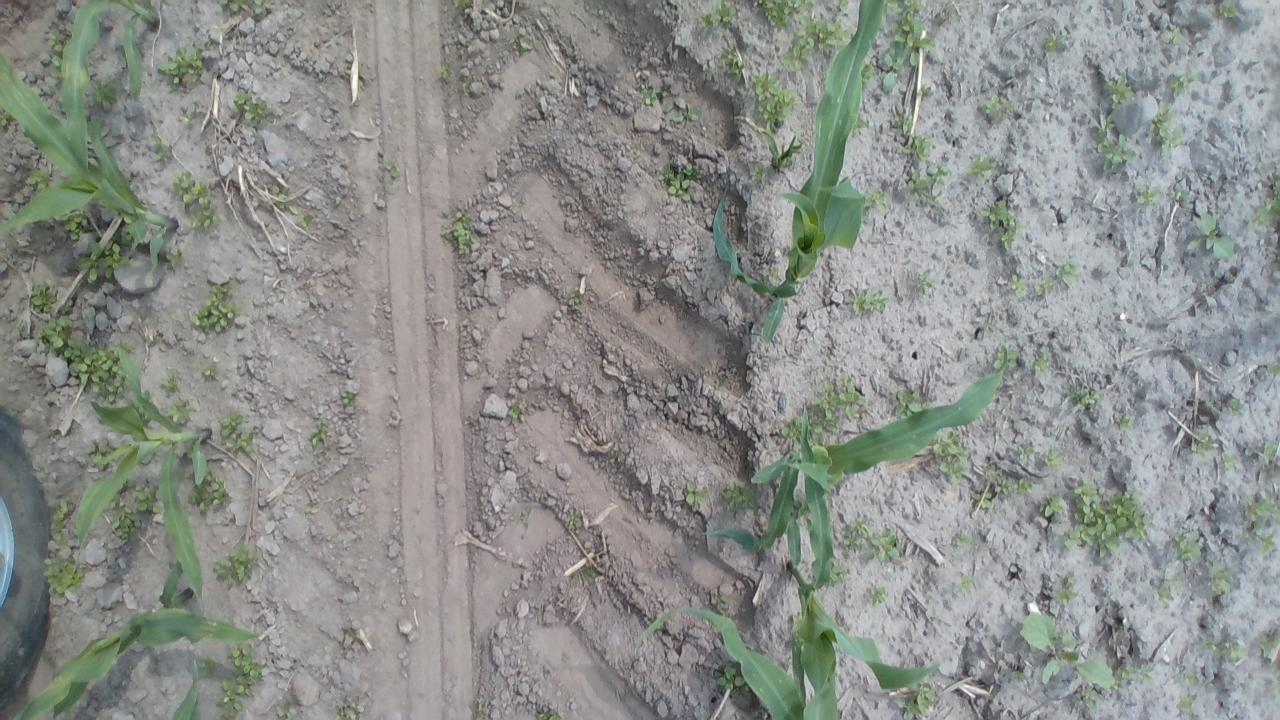Maize: (698, 348, 1012, 552), (714, 0, 886, 347), (763, 407, 945, 720), (0, 32, 185, 273), (11, 560, 268, 720), (70, 334, 214, 618), (644, 603, 811, 720), (74, 0, 167, 100), (166, 656, 206, 720)
Weeds: (1018, 612, 1118, 693), (1062, 480, 1151, 558), (781, 0, 852, 71), (60, 344, 134, 402), (884, 0, 932, 75), (218, 643, 262, 720), (172, 170, 218, 231), (811, 378, 862, 432), (1094, 114, 1138, 176), (75, 236, 131, 284), (752, 71, 801, 122), (192, 282, 239, 334), (1188, 212, 1236, 256), (1244, 496, 1280, 554), (1248, 166, 1280, 230), (934, 432, 972, 481), (981, 198, 1019, 247), (214, 545, 258, 586), (162, 47, 206, 88), (42, 557, 86, 597), (1150, 104, 1183, 156), (658, 162, 702, 200), (220, 412, 256, 456), (906, 164, 950, 200), (758, 0, 812, 29), (188, 475, 229, 513), (983, 467, 1032, 496), (1002, 272, 1056, 298), (51, 494, 78, 543), (900, 684, 936, 719), (720, 480, 758, 512), (846, 288, 889, 316), (232, 90, 267, 124), (147, 130, 180, 166), (864, 526, 898, 560), (40, 317, 74, 350), (984, 94, 1018, 126), (1170, 530, 1204, 562), (846, 519, 876, 555), (108, 505, 138, 541), (90, 75, 119, 111), (895, 387, 927, 419), (1106, 74, 1136, 108), (700, 0, 736, 28), (1114, 662, 1152, 688), (1175, 676, 1199, 717), (134, 481, 162, 516), (451, 211, 474, 252), (716, 664, 747, 692), (682, 482, 709, 514), (472, 695, 506, 720), (1207, 637, 1242, 661), (49, 28, 68, 72), (1066, 386, 1099, 411), (966, 154, 999, 179), (721, 43, 742, 82), (1070, 688, 1103, 712), (776, 140, 804, 168), (1056, 255, 1082, 285), (30, 283, 55, 314), (860, 57, 883, 90), (664, 102, 700, 123), (1027, 346, 1054, 374), (219, 0, 269, 15), (1157, 574, 1182, 604), (52, 210, 86, 232), (1050, 577, 1076, 605), (305, 420, 331, 448), (904, 132, 932, 158), (864, 188, 891, 214), (638, 82, 666, 107), (166, 399, 194, 424), (1209, 564, 1232, 594), (378, 158, 404, 184), (1220, 391, 1248, 415), (90, 441, 116, 466), (952, 574, 979, 598), (1189, 431, 1213, 457), (1040, 492, 1064, 518), (26, 166, 51, 190), (995, 346, 1017, 372), (1168, 75, 1196, 95), (972, 489, 996, 512), (438, 61, 460, 86), (781, 416, 802, 442), (564, 507, 586, 531), (1040, 446, 1064, 468), (711, 592, 733, 615), (336, 702, 364, 720), (202, 363, 226, 384), (1136, 185, 1160, 205), (1258, 634, 1276, 660), (1168, 187, 1194, 205), (750, 162, 770, 185), (892, 110, 912, 132), (792, 499, 811, 522), (1015, 441, 1036, 461), (869, 584, 888, 606), (1044, 31, 1066, 50), (294, 212, 317, 230), (1220, 0, 1240, 20), (276, 700, 296, 720), (342, 622, 362, 642), (826, 563, 846, 583), (160, 373, 180, 392), (515, 32, 534, 52), (1114, 414, 1134, 432), (518, 505, 536, 525), (916, 274, 932, 296), (452, 0, 477, 14), (853, 114, 870, 134), (564, 292, 585, 308), (270, 186, 287, 205), (1260, 442, 1276, 462), (1008, 666, 1024, 686), (1259, 362, 1280, 377), (762, 265, 780, 282), (340, 389, 358, 406), (168, 252, 184, 271), (918, 84, 938, 99), (791, 612, 803, 637), (1220, 452, 1237, 469), (304, 496, 320, 514), (608, 448, 626, 464), (508, 401, 522, 421), (1165, 28, 1185, 42), (956, 531, 972, 547), (538, 710, 560, 720), (582, 565, 596, 579)
